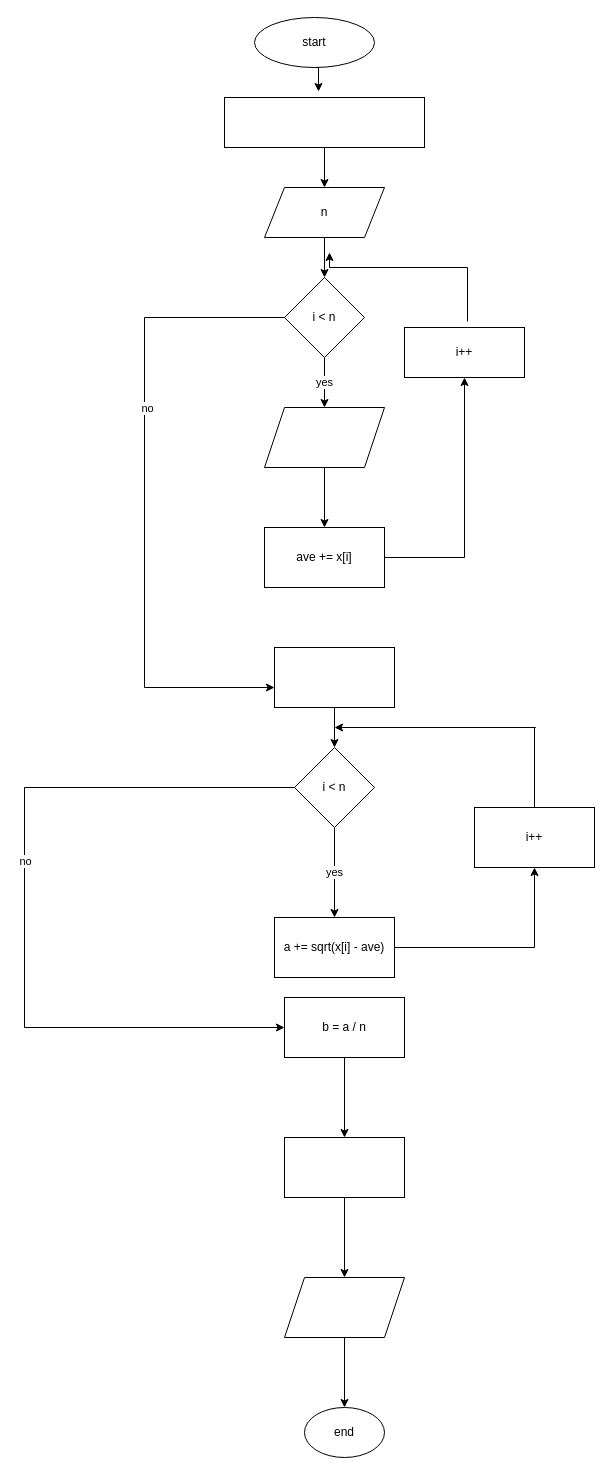
This 612x1475 diagram has some shape labels left out. Each missing label, with the centre of its shape:
ave = ave / n: the point at 334,677
i = 0; sd = 0; n = 0; a = 0; b = 0; x = [];: the point at 324,122
sd: the point at 344,1307
sd = sqrt(b): the point at 344,1167
x[i]: the point at 324,437
